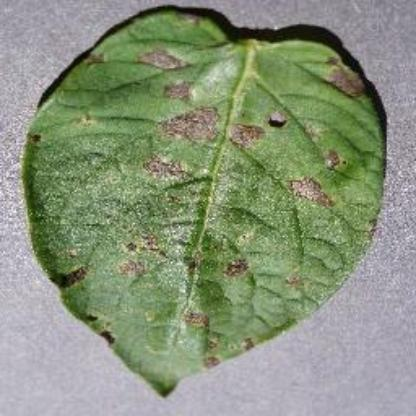Early-Blight: (23, 7, 390, 399)
